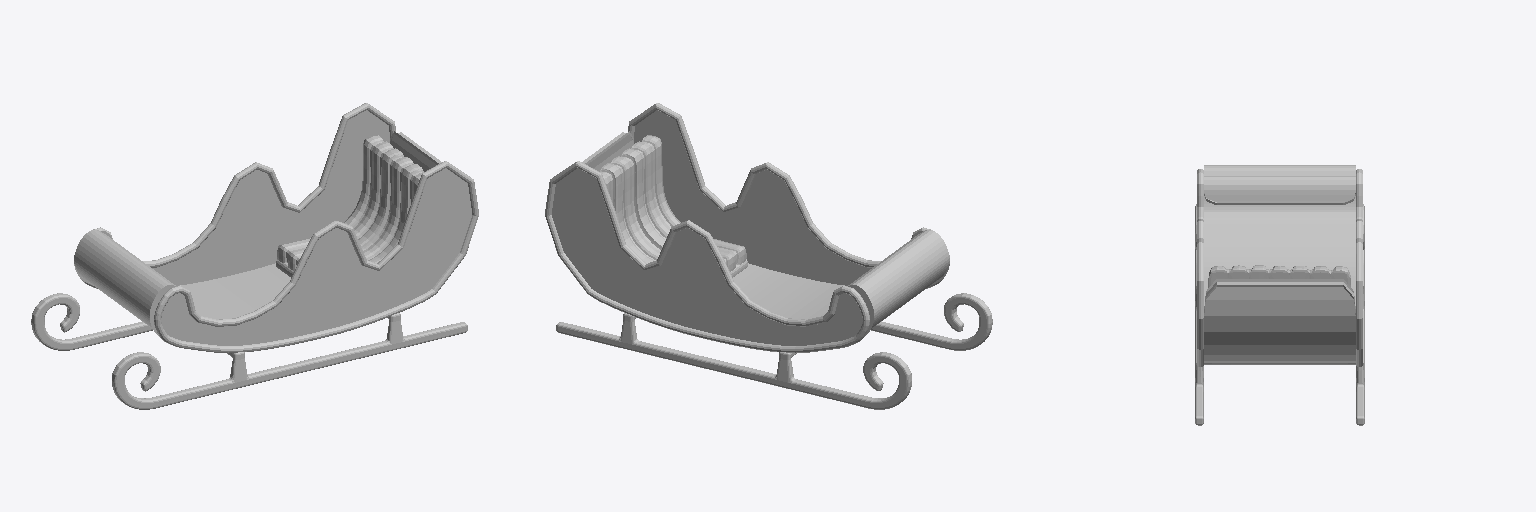
File: Sleigh.obj
The picture shows the model from 3 angles: view 1: azimuth 30°, elevation 25°; view 2: azimuth 150°, elevation 25°; view 3: azimuth 270°, elevation 25°; orthographic projection.
Visible parts, largest first — view 1: BezierCircle, BezierCircle.001, Cube, Cube.001; view 2: BezierCircle, BezierCircle.001, Cube, Cube.001; view 3: BezierCircle.001, BezierCircle, Cube, Cube.001.
Part boxes in pixels (x1,y1,x2,y2): BezierCircle: (82,103,478,352); BezierCircle.001: (74,131,441,336); Cube: (31,293,467,409); Cube.001: (277,135,423,270); BezierCircle: (545,103,941,352); BezierCircle.001: (582,131,949,336); Cube: (556,293,992,409); Cube.001: (598,135,746,271); BezierCircle.001: (1204,165,1355,362); BezierCircle: (1197,169,1362,366); Cube: (1195,204,1364,425); Cube.001: (1208,265,1350,287).
Bounding box in the file's own units: 17.31 × 7.89 × 6.94.